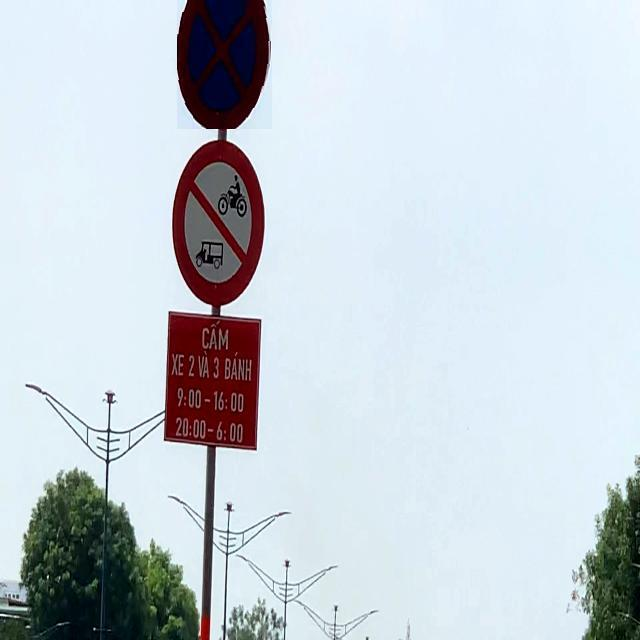P-130: (177, 0, 272, 129)
